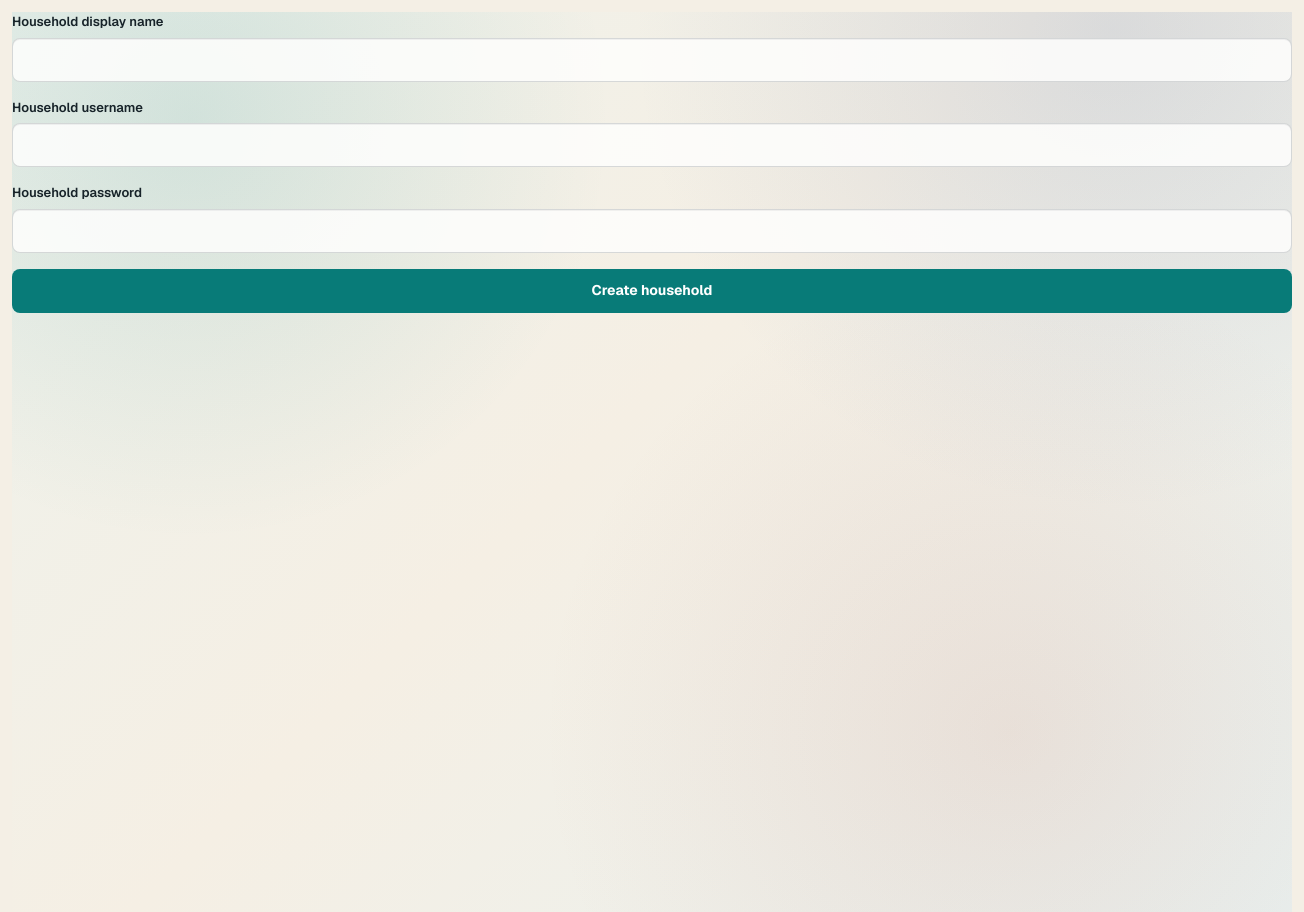
Test: auth forms › preserves create-household name and username after recoverable errors
This screenshot has width=1304, height=912.
Type "River Home" into the field labelled "Household display name".
click(652, 60); type("River Home")  # box left=12, top=38, right=1292, bottom=82
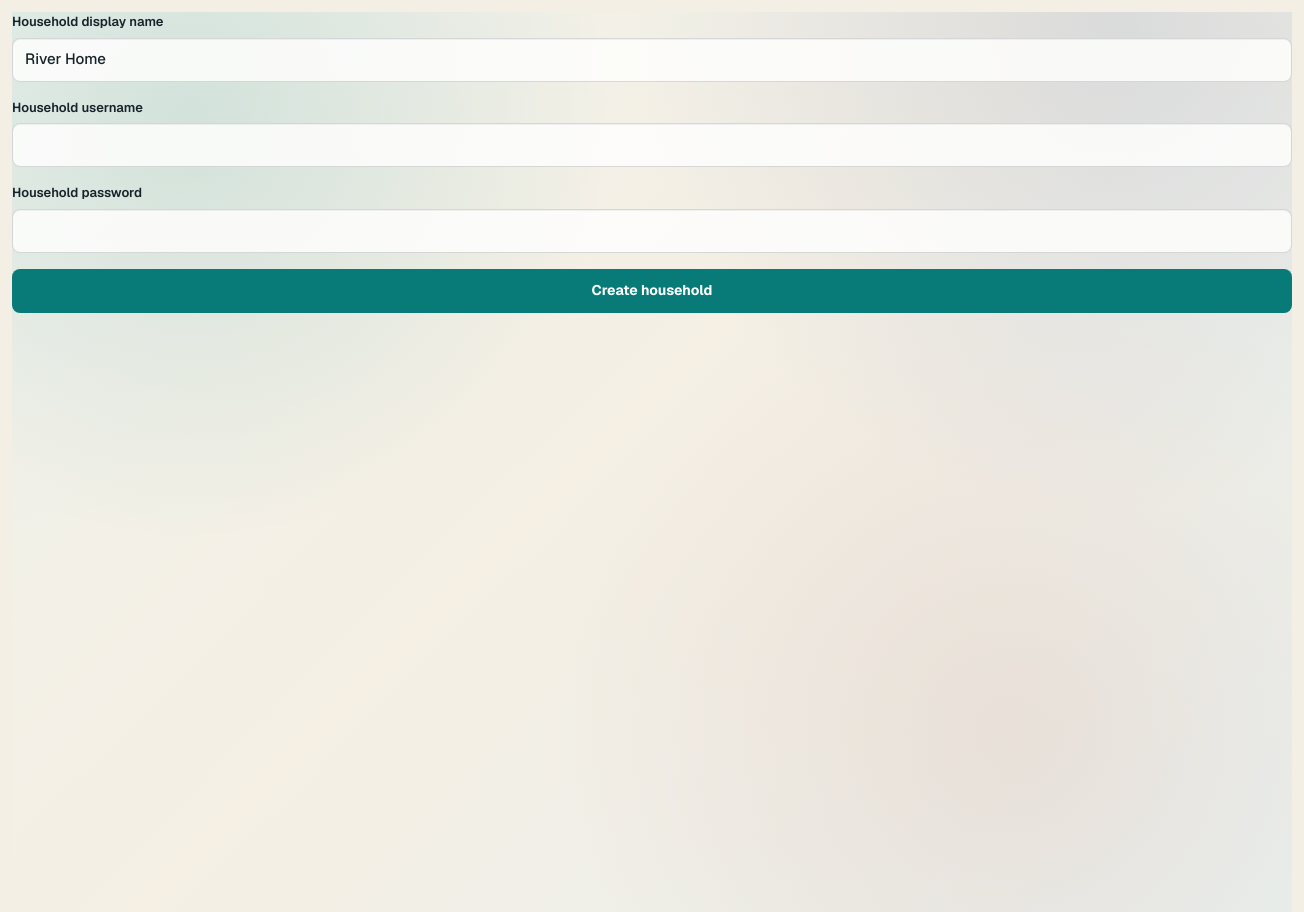
Type "river-home" into the field labelled "Household username".
click(652, 145); type("river-home")  # box left=12, top=123, right=1292, bottom=167
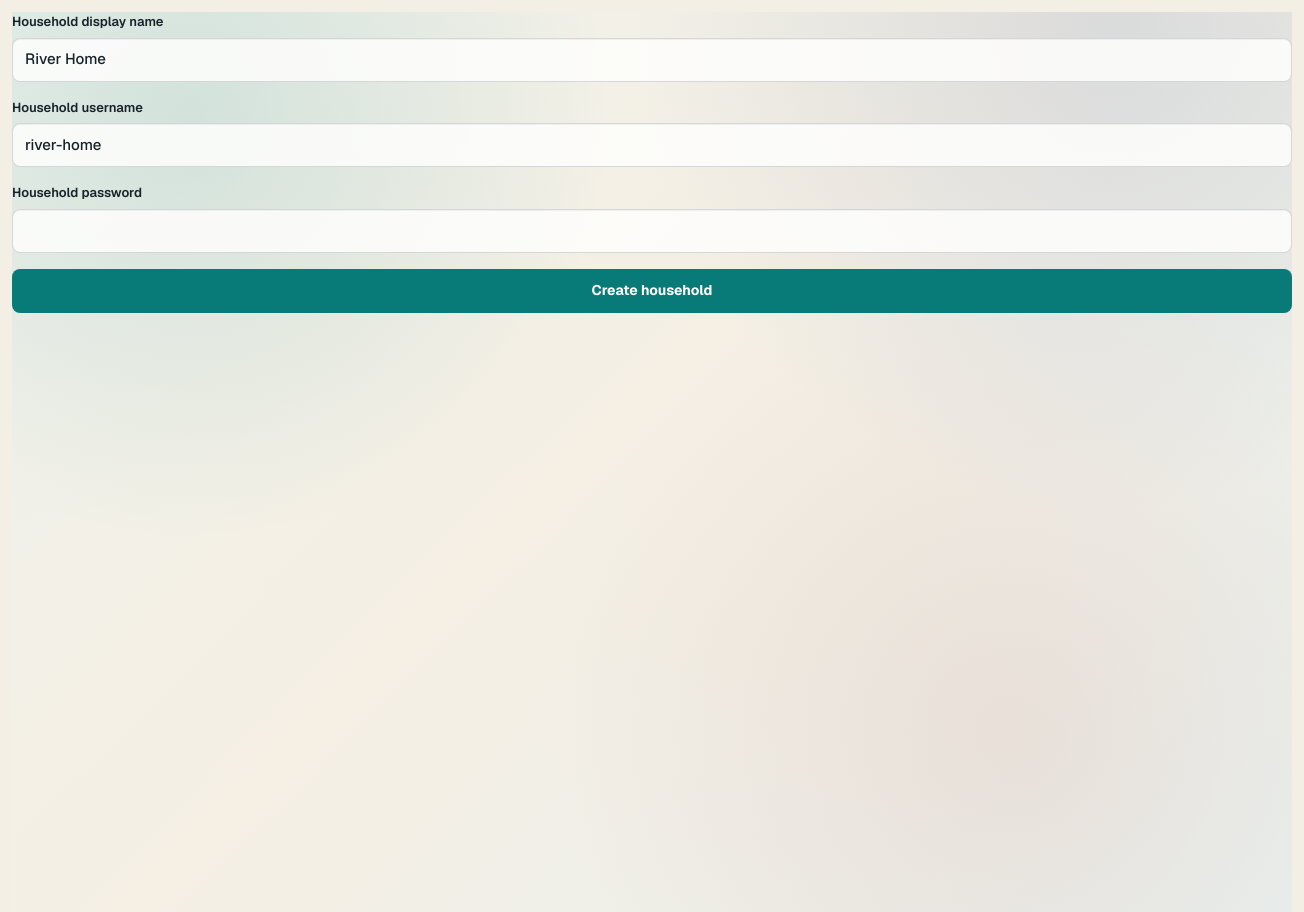
Type "correct horse battery staple" into the password field labelled "Household password".
click(652, 230); type("correct horse battery staple")  # box left=12, top=208, right=1292, bottom=252
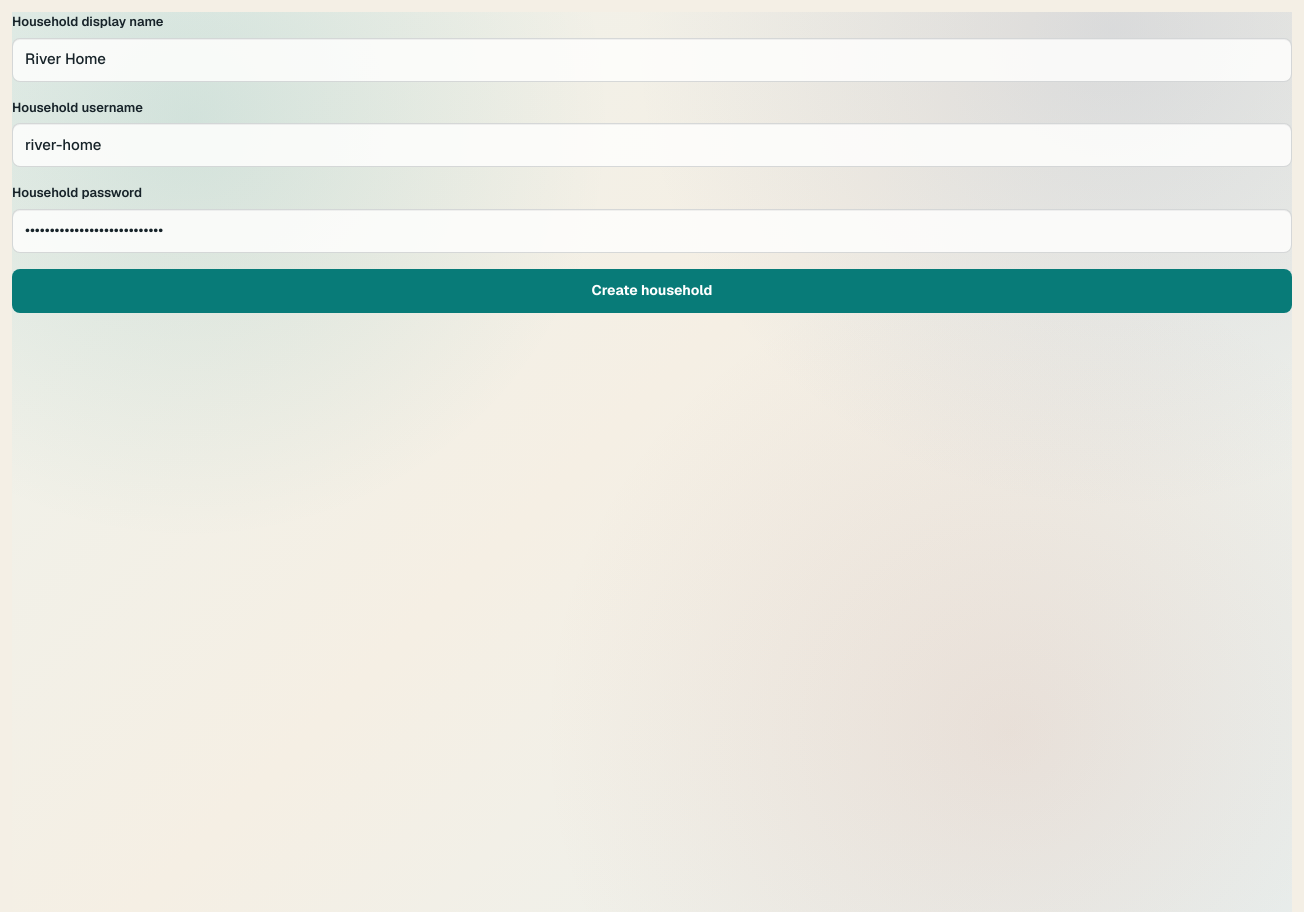
Click the button "Create household".
click(652, 290)  # box left=12, top=268, right=1292, bottom=312
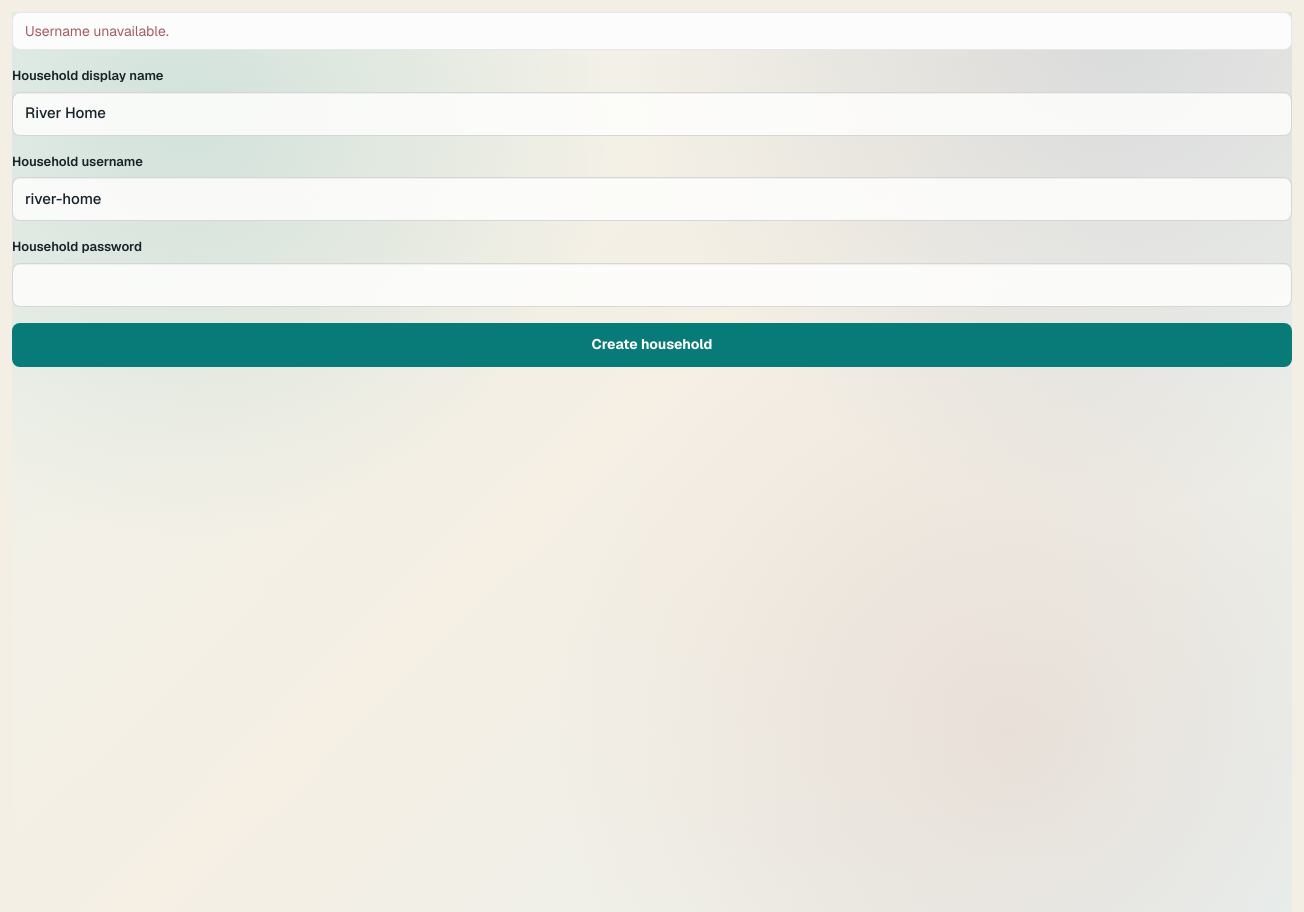
Expected: the text "Username unavailable." is shown, left=12, top=12, right=1292, bottom=50
Expected: the password field labelled "Household password" is empty, left=12, top=262, right=1292, bottom=306
